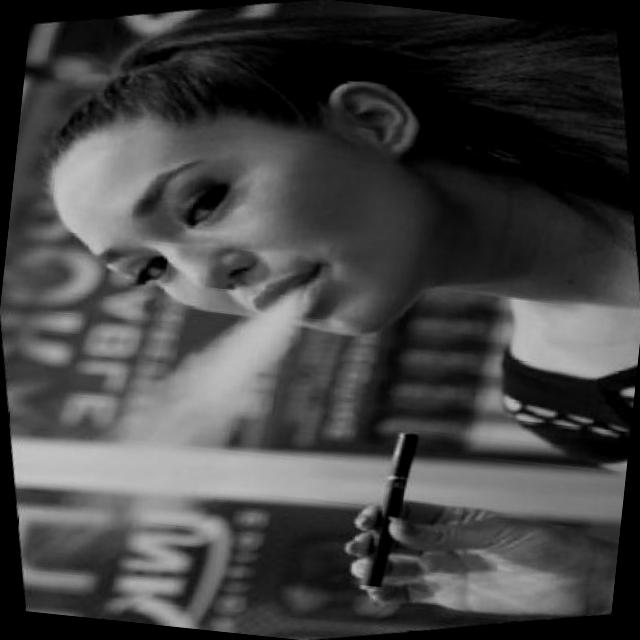smoke: (326, 424, 448, 602)
